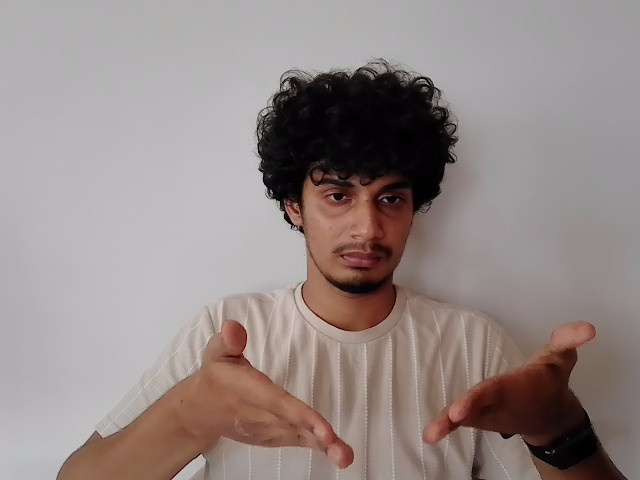here: (192, 315, 601, 459)
